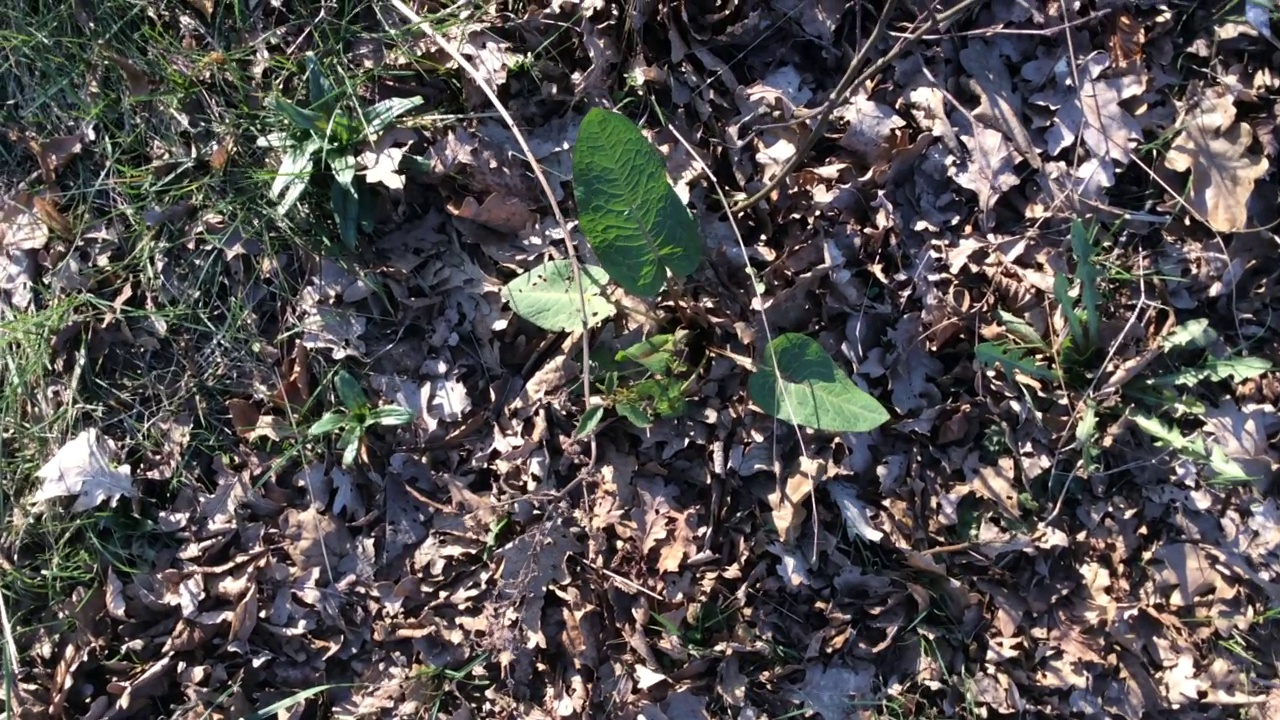rumex: (499, 104, 892, 433)
